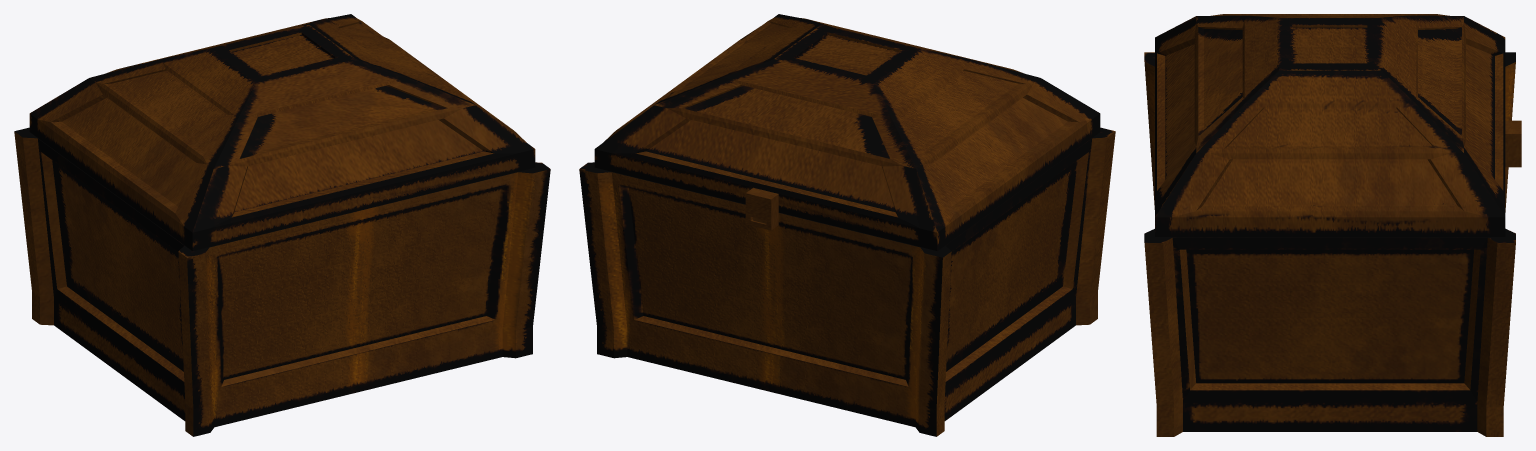
The model's file is Chest.fbx.
3 views of the same model, side by side, from view 1: azimuth 30°, elevation 25°; view 2: azimuth 150°, elevation 25°; view 3: azimuth 270°, elevation 25° (orthographic). The views are drawn at different scales.
Parts seen in each view (by area): view 1: Chest, ChestLid; view 2: Chest, ChestLid; view 3: ChestLid, Chest.
Boxes of the visible parts, x1=… form: Chest: x1=14, y1=127, x2=550, y2=436; ChestLid: x1=29, y1=14, x2=535, y2=250; Chest: x1=579, y1=127, x2=1115, y2=436; ChestLid: x1=594, y1=14, x2=1100, y2=250; ChestLid: x1=1155, y1=14, x2=1521, y2=236; Chest: x1=1144, y1=52, x2=1515, y2=436.
Size of the model in its own units: 156 by 116 by 130.
